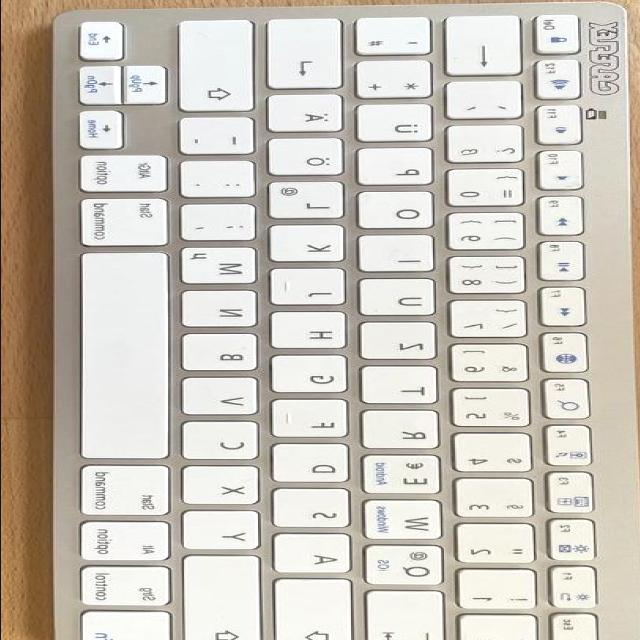0: (448, 169, 530, 209)
1: (459, 571, 541, 612)
2: (459, 524, 541, 566)
3: (457, 479, 539, 522)
4: (456, 434, 540, 475)
5: (452, 390, 536, 430)
6: (453, 345, 535, 385)
7: (453, 301, 532, 340)
8: (450, 257, 530, 297)
9: (448, 214, 530, 254)
a: (276, 535, 358, 577)
accent: (448, 82, 530, 122)
ae: (270, 96, 350, 136)
alt-left: (81, 521, 179, 565)
altgr-right: (81, 154, 177, 195)
b: (185, 335, 265, 375)
c: (185, 423, 265, 463)
caret: (462, 616, 546, 640)
comma: (183, 205, 262, 245)
d: (275, 445, 355, 486)
del: (446, 16, 530, 78)
e: (363, 456, 448, 498)
enter: (270, 19, 349, 91)
f: (275, 401, 355, 441)
g: (274, 356, 353, 397)
h: (273, 313, 353, 353)
hash: (356, 17, 438, 57)
i: (360, 236, 442, 276)
j: (273, 270, 353, 308)
k: (272, 227, 352, 265)
keyboard: (33, 0, 640, 640)
l: (270, 183, 349, 222)
m: (183, 248, 263, 288)
minus: (181, 118, 260, 159)
n: (185, 291, 264, 331)
o: (360, 193, 440, 233)
oe: (270, 139, 350, 179)
p: (360, 149, 440, 189)
plus: (358, 62, 440, 102)
point: (183, 161, 262, 201)
q: (366, 545, 451, 589)
r: (365, 412, 445, 452)
s: (276, 490, 356, 531)
shift-left: (185, 556, 268, 640)
shift-lock: (278, 581, 360, 640)
shift-right: (180, 20, 262, 114)
space: (81, 254, 177, 461)
ss: (448, 126, 530, 166)
strg-left: (82, 566, 178, 610)
t: (363, 367, 445, 407)
tab: (369, 592, 453, 640)
u: (359, 280, 443, 320)
ue: (358, 105, 440, 145)
v: (185, 379, 265, 419)
w: (366, 501, 451, 543)
x: (185, 468, 267, 508)
y: (185, 511, 267, 553)
z: (361, 323, 443, 363)
